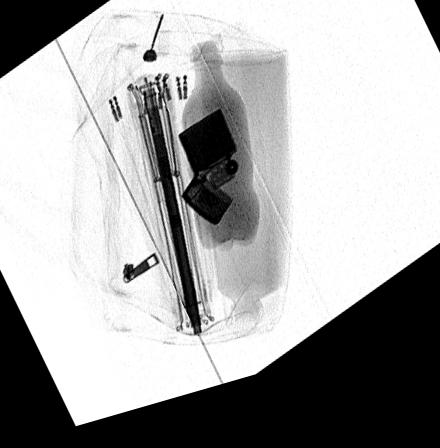Lighter: (176, 120, 239, 240)
